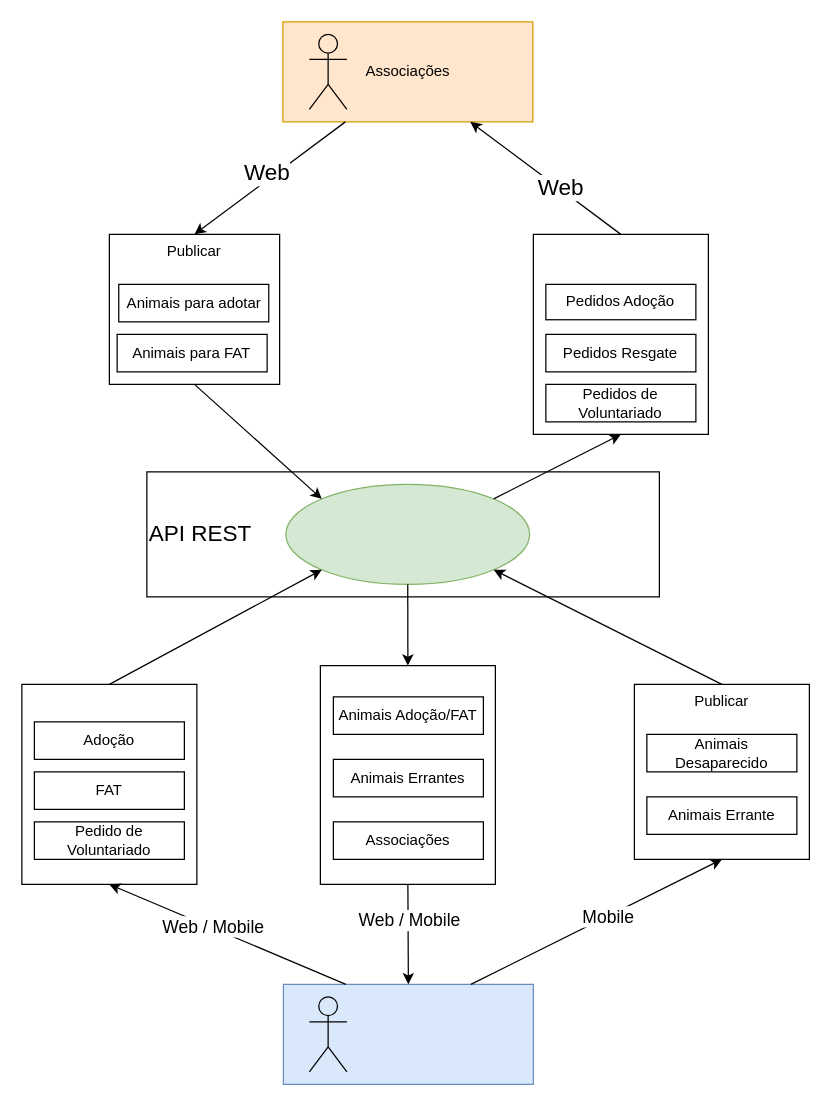
Some shapes in this 831 by 1106 pixel diagram are drawn without their labels. The box of each missing label's shape, as (x1, y1, x2, y2) in pixels:
Efetuar: (21, 683, 197, 884)
Particulares: (282, 983, 533, 1084)
Paws4adoption: (285, 483, 530, 584)
Pesquisar: (319, 664, 495, 884)
Receber: (532, 233, 708, 434)
